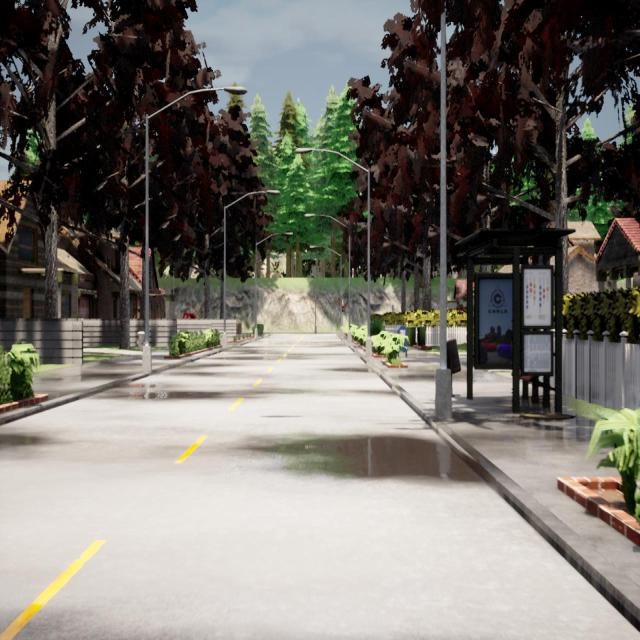traffic_light: (342, 302, 344, 312)
